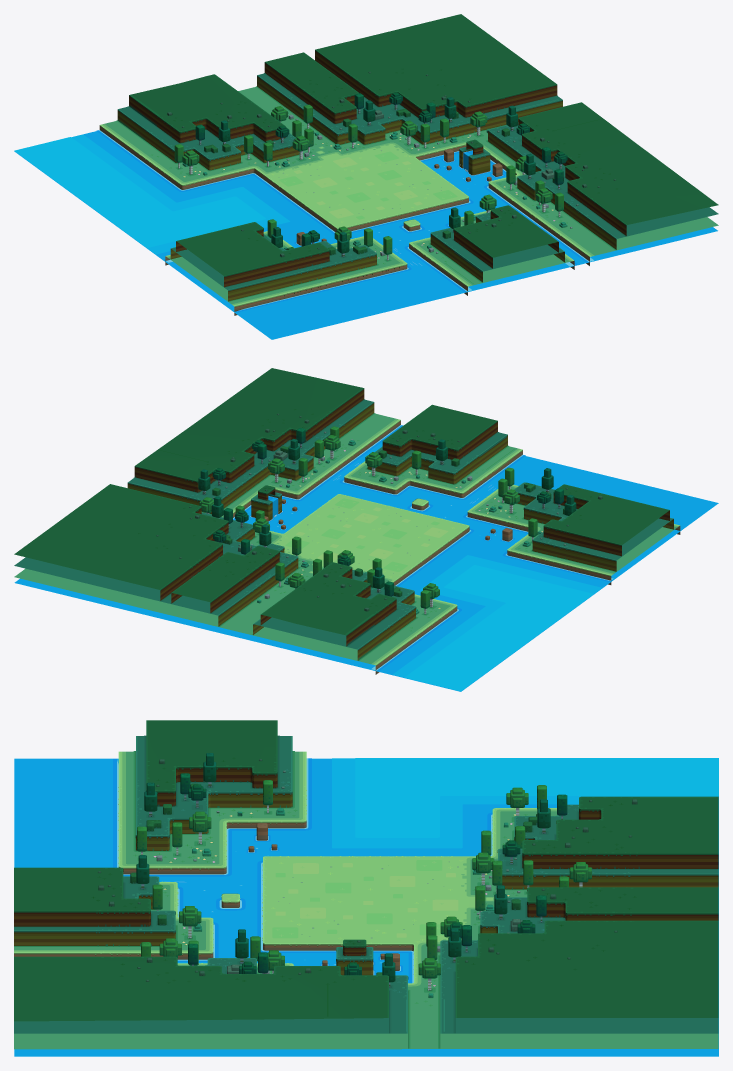
The model's file is mceGuildField.obj.
The picture shows the model from 3 angles, top to bottom: view 1: azimuth 30°, elevation 25°; view 2: azimuth 150°, elevation 25°; view 3: azimuth 270°, elevation 25°; orthographic projection. The views are drawn at different scales.
Visible parts, largest first — view 1: mceGuildField; view 2: mceGuildField; view 3: mceGuildField.
Part boxes in pixels (x1,y1,x2,y2): mceGuildField: (14, 14, 718, 339); mceGuildField: (14, 368, 718, 691); mceGuildField: (14, 720, 718, 1056).
Size of the model in its own units: 190 by 18.2 by 190.
Materials: 1 (1 with a texture image).
